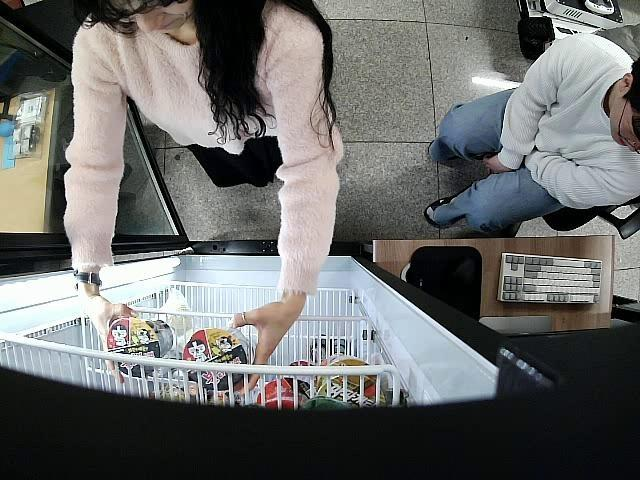08_buldak_S: (181, 326, 255, 392), (106, 314, 175, 380)
